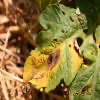Tomato Early blight leaf: (19, 14, 78, 92)
